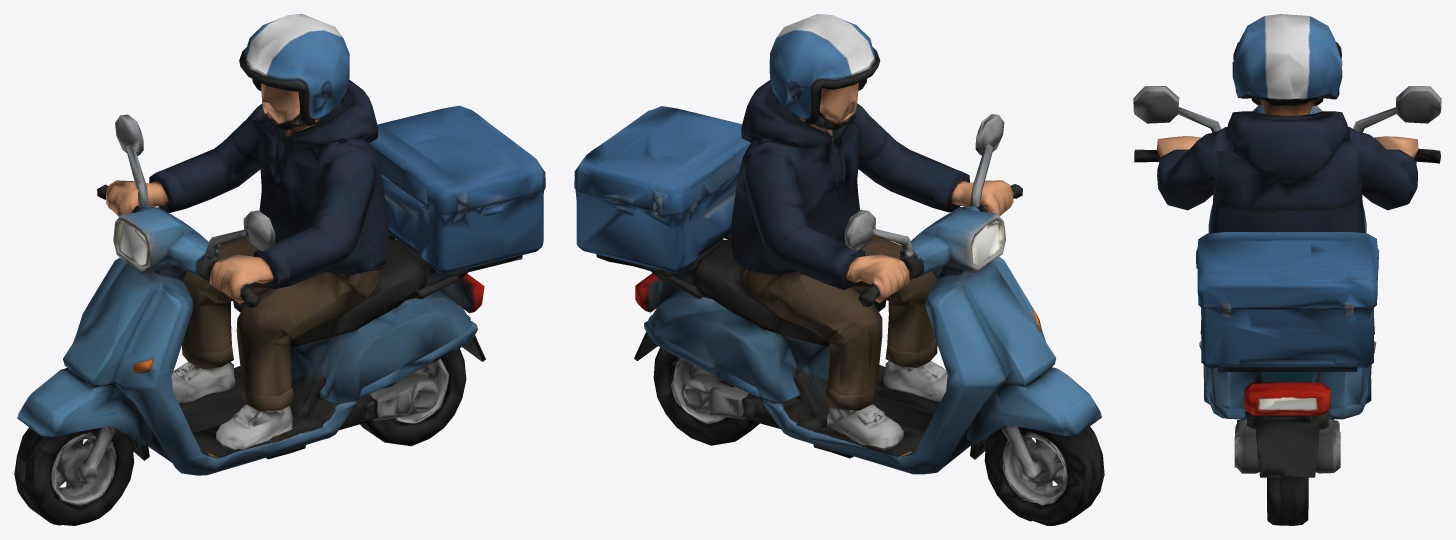
The model's file is veh-scooter.glb.
The picture shows the model from 3 angles, left to right: view 1: azimuth 30°, elevation 25°; view 2: azimuth 150°, elevation 25°; view 3: azimuth 270°, elevation 25°; orthographic projection.
Parts seen in each view (by area): view 1: tripo_node_70b094f8-ebea-4156-aca7-7ace4538bfa7; view 2: tripo_node_70b094f8-ebea-4156-aca7-7ace4538bfa7; view 3: tripo_node_70b094f8-ebea-4156-aca7-7ace4538bfa7.
Part boxes in pixels (bbox=[...]): tripo_node_70b094f8-ebea-4156-aca7-7ace4538bfa7: bbox=[14, 14, 545, 525]; tripo_node_70b094f8-ebea-4156-aca7-7ace4538bfa7: bbox=[574, 14, 1104, 525]; tripo_node_70b094f8-ebea-4156-aca7-7ace4538bfa7: bbox=[1133, 14, 1441, 525].
Size of the model in its own units: 0.9796 by 0.857 by 0.5334.
1 material, 1 textured.
